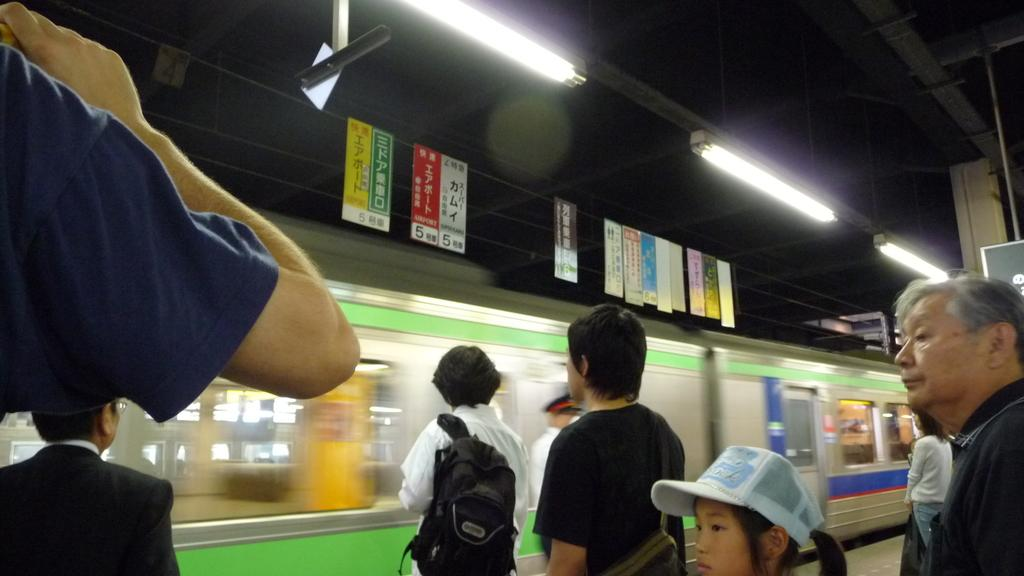Hat: (652, 443, 814, 547)
